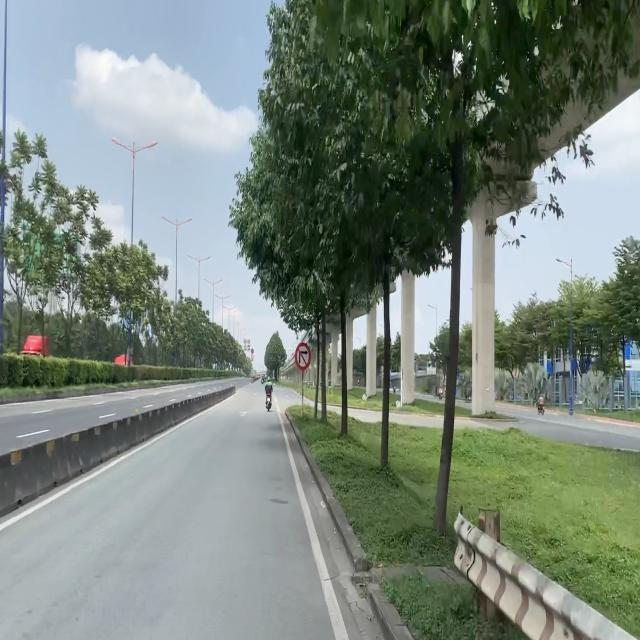Cam re phai: (294, 341, 311, 371)
